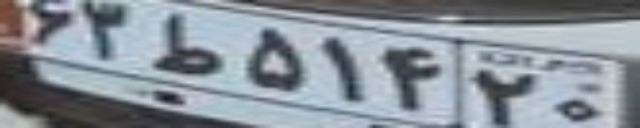0: (550, 97, 604, 123)
1: (321, 35, 367, 102)
2: (472, 69, 538, 126)
3: (80, 0, 130, 60)
4: (382, 45, 442, 111)
5: (241, 26, 310, 92)
6: (26, 0, 73, 49)
taa: (152, 12, 224, 76)
